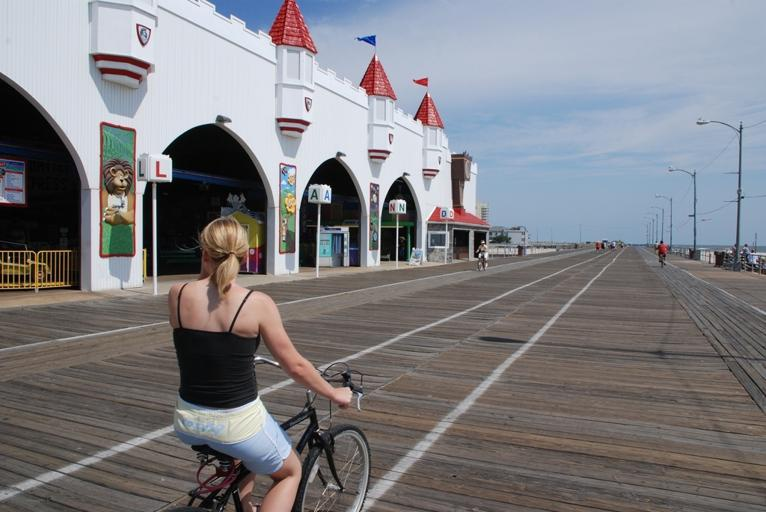non-vehicle: (166, 352, 372, 510), (475, 250, 488, 271), (659, 254, 665, 268)
